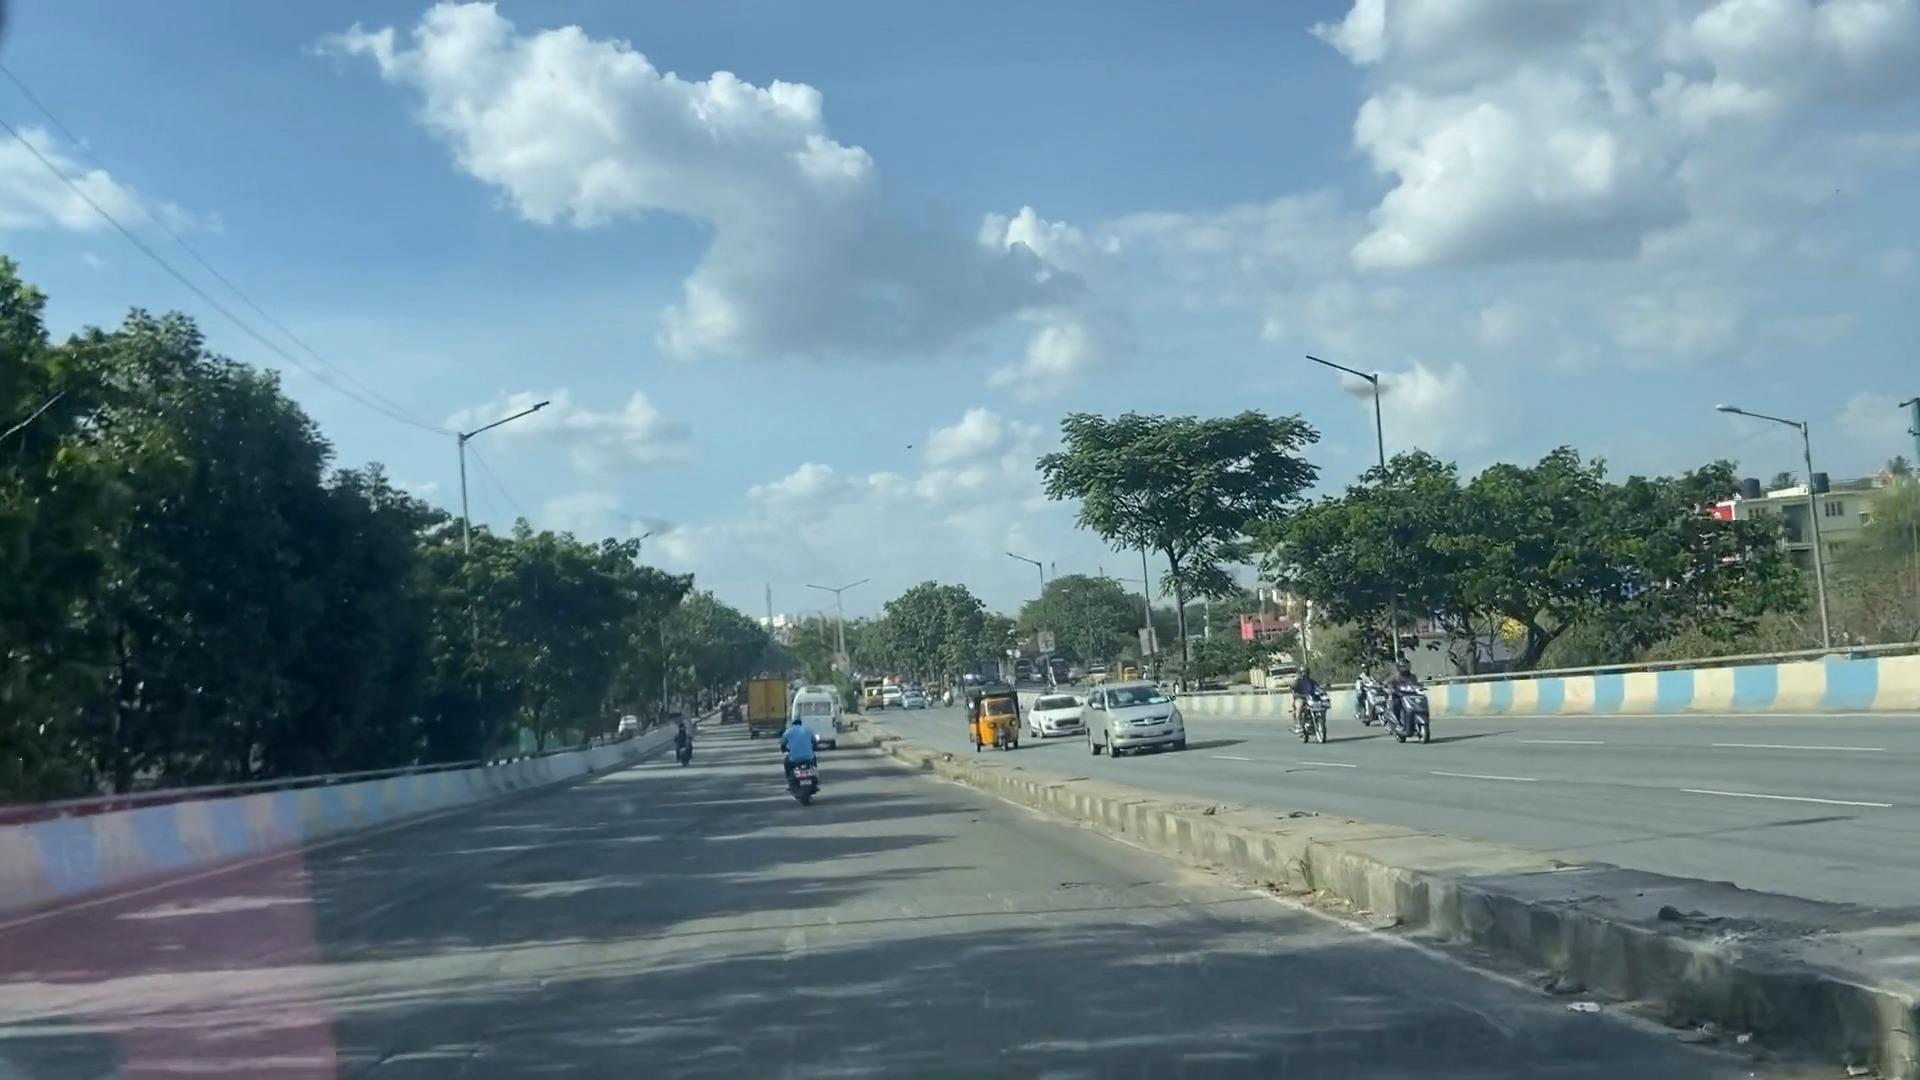RoadDamages: (406, 877, 913, 1080), (893, 832, 1172, 1080)
